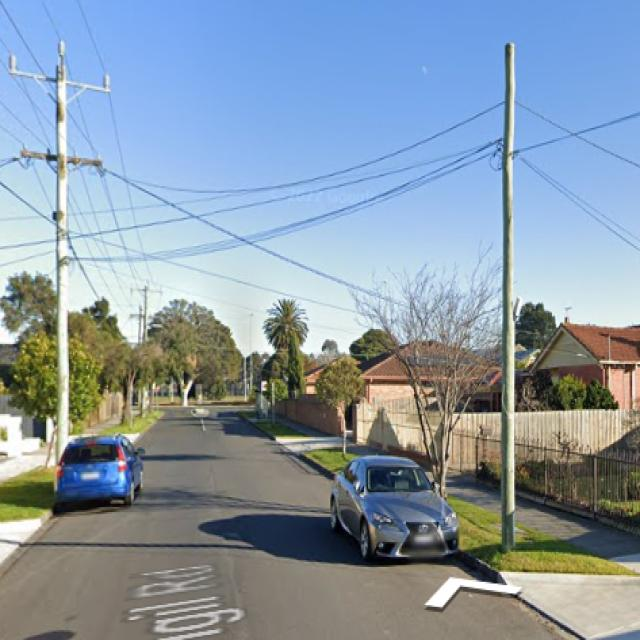HV-transmission: (9, 41, 110, 94)
crossarm: (6, 70, 110, 92), (18, 148, 103, 168), (129, 288, 163, 295), (130, 314, 156, 320)
timber-pole: (501, 42, 517, 552), (55, 62, 67, 492), (139, 286, 149, 418)
